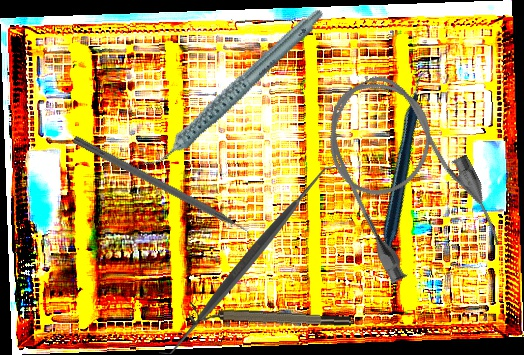Cannula: (304, 55, 510, 296)
Chopper: (66, 134, 262, 252)
Fixation Ring: (188, 302, 352, 336)
Handpiece: (117, 6, 349, 172), (311, 66, 504, 258)
Spatula Surgical: (159, 166, 339, 354)
